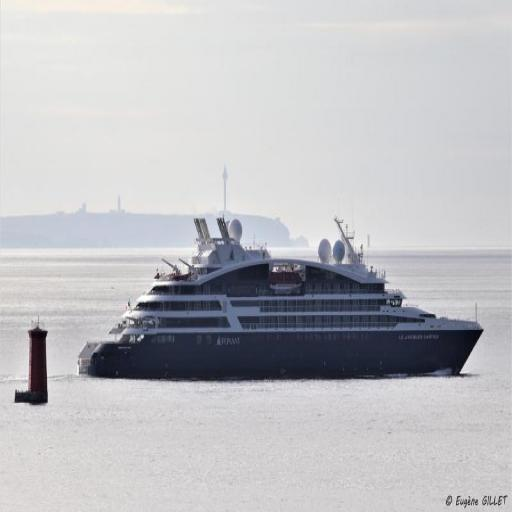cruises: (74, 206, 488, 391)
